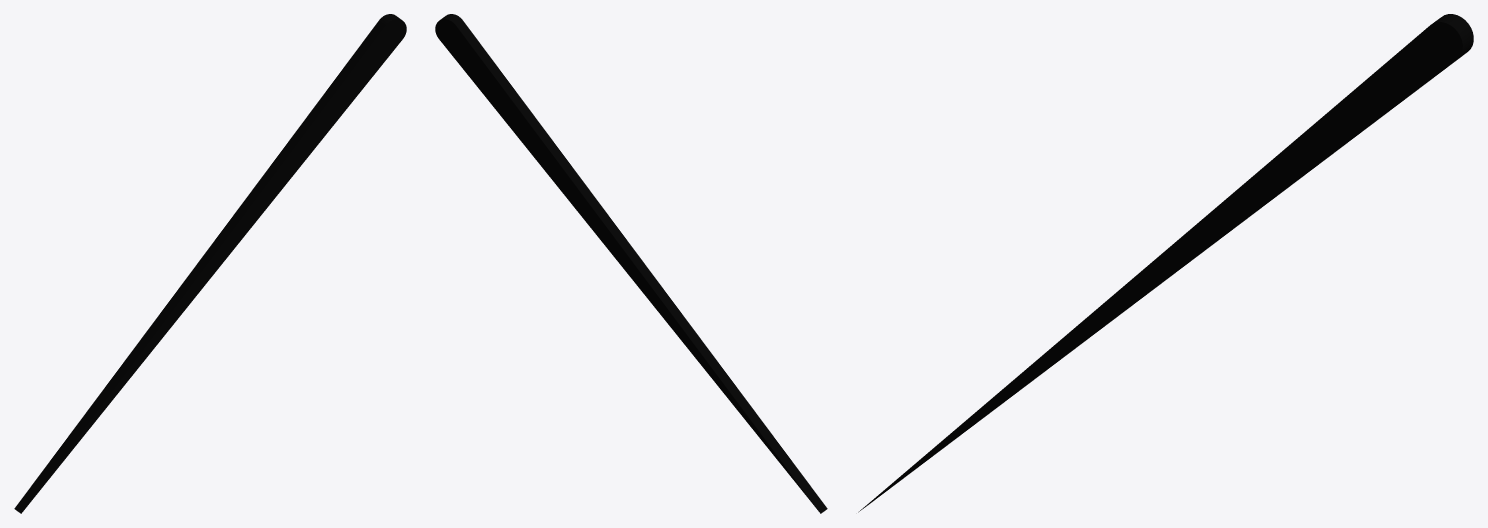
The model's file is Needle.obj.
3 renders of one model, left to right at view 1: azimuth 30°, elevation 25°; view 2: azimuth 150°, elevation 25°; view 3: azimuth 330°, elevation 25°, orthographic. The views are drawn at different scales.
Visible parts, largest first — view 1: Needle; view 2: Needle; view 3: Needle.
Part boxes in pixels (x1,y1,x2,y2): Needle: (14,14,406,513); Needle: (435,14,827,513); Needle: (858,14,1473,512).
Bounding box in the file's own units: 31.99 × 31.99 × 1.
1 material, 1 textured.
